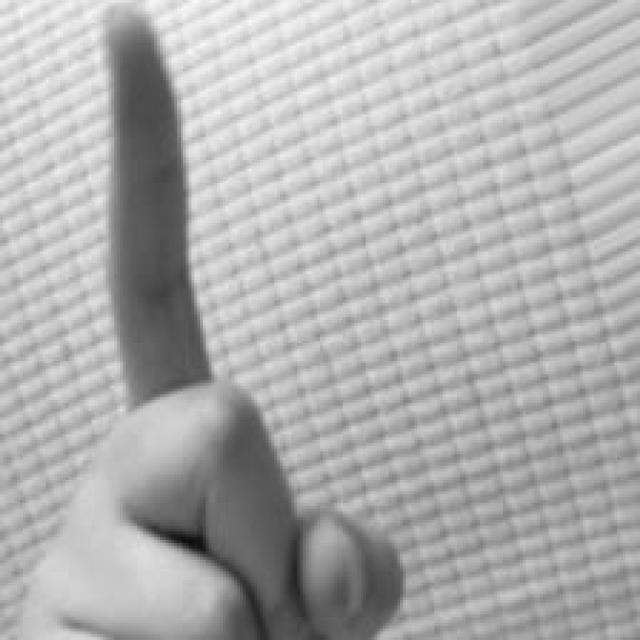I: (6, 1, 419, 640)
